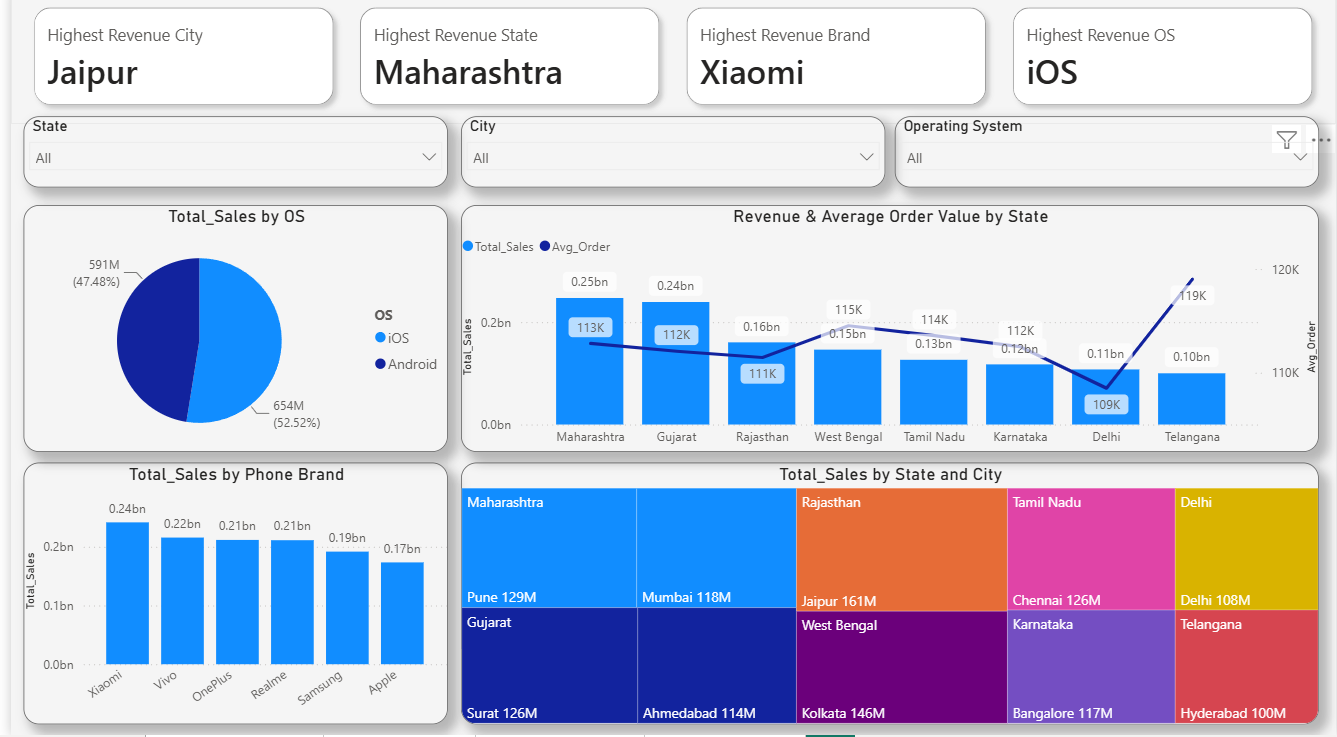

The dashboard page shown, as its layout file describes it:
{"tool":"powerbi","page":{"name":"Customer Review","canvas":[1280,720],"ordinal":2},"visuals":[{"type":"cardVisual","fields":{"Data":["Customers.Highest Revenue City","Customers.Highest Revenue State","Customers.Highest Revenue Brand","Customers.Highest Revenue OS"]},"box":[0,0,1280.3,129],"z":0},{"type":"columnChart","fields":{"Category":["Customers.Phone Brand"],"Y":["Orders.Total_Sales"]},"box":[12.3,455.6,409.9,253.1],"z":1000},{"type":"pieChart","fields":{"Category":["Customers.Operating System"],"Y":["Orders.Total_Sales"]},"box":[12.3,207.4,409.9,238.3],"z":2000},{"type":"treemap","fields":{"Group":["Customers.State"],"Details":["Customers.City"],"Values":["Orders.Total_Sales"]},"box":[434.6,455.6,828.4,253.1],"z":3000},{"type":"lineClusteredColumnComboChart","title":"Revenue & Average Order Value by State","fields":{"Category":["Customers.State"],"Y":["Orders.Total_Sales"],"Y2":["Orders.Avg_Order"]},"box":[434.6,207.4,828.4,238.3],"z":4000},{"type":"slicer","fields":{"Values":["Customers.State"]},"box":[12.3,122.2,409.9,69.1],"z":5000},{"type":"slicer","fields":{"Values":["Customers.City"]},"box":[434.6,122.2,409.9,69.1],"z":6000},{"type":"slicer","fields":{"Values":["Customers.Operating System"]},"box":[853.1,122.2,409.9,69.1],"z":7000}]}

Visuals, with their boxes in screenshot pixels (x1, y1, x2, y2), scaled from the page's 1280x720 canvas onto the 1337x737 screenshot:
cardVisual - Customers.Highest Revenue City x Customers.Highest Revenue State: (0, 0, 1336, 132)
columnChart - Customers.Phone Brand x Orders.Total_Sales: (13, 466, 441, 725)
pieChart - Customers.Operating System x Orders.Total_Sales: (13, 212, 441, 456)
treemap - Customers.State x Customers.City: (454, 466, 1319, 725)
"Revenue & Average Order Value by State" lineClusteredColumnComboChart: (454, 212, 1319, 456)
slicer - Customers.State: (13, 125, 441, 196)
slicer - Customers.City: (454, 125, 882, 196)
slicer - Customers.Operating System: (891, 125, 1319, 196)
